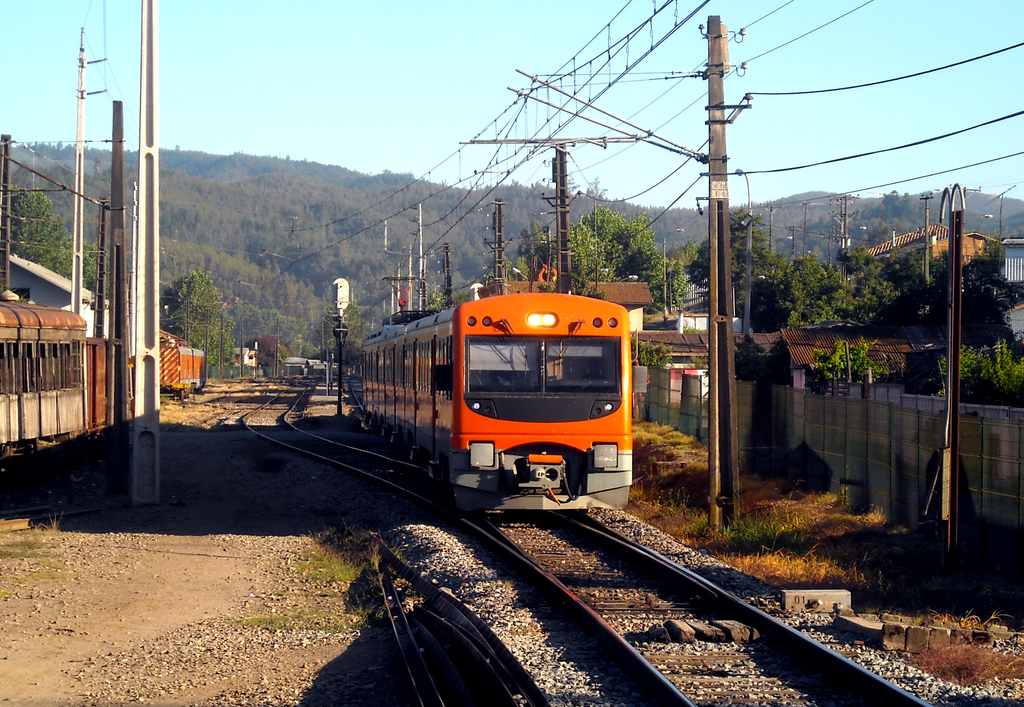train: (356, 277, 629, 504)
